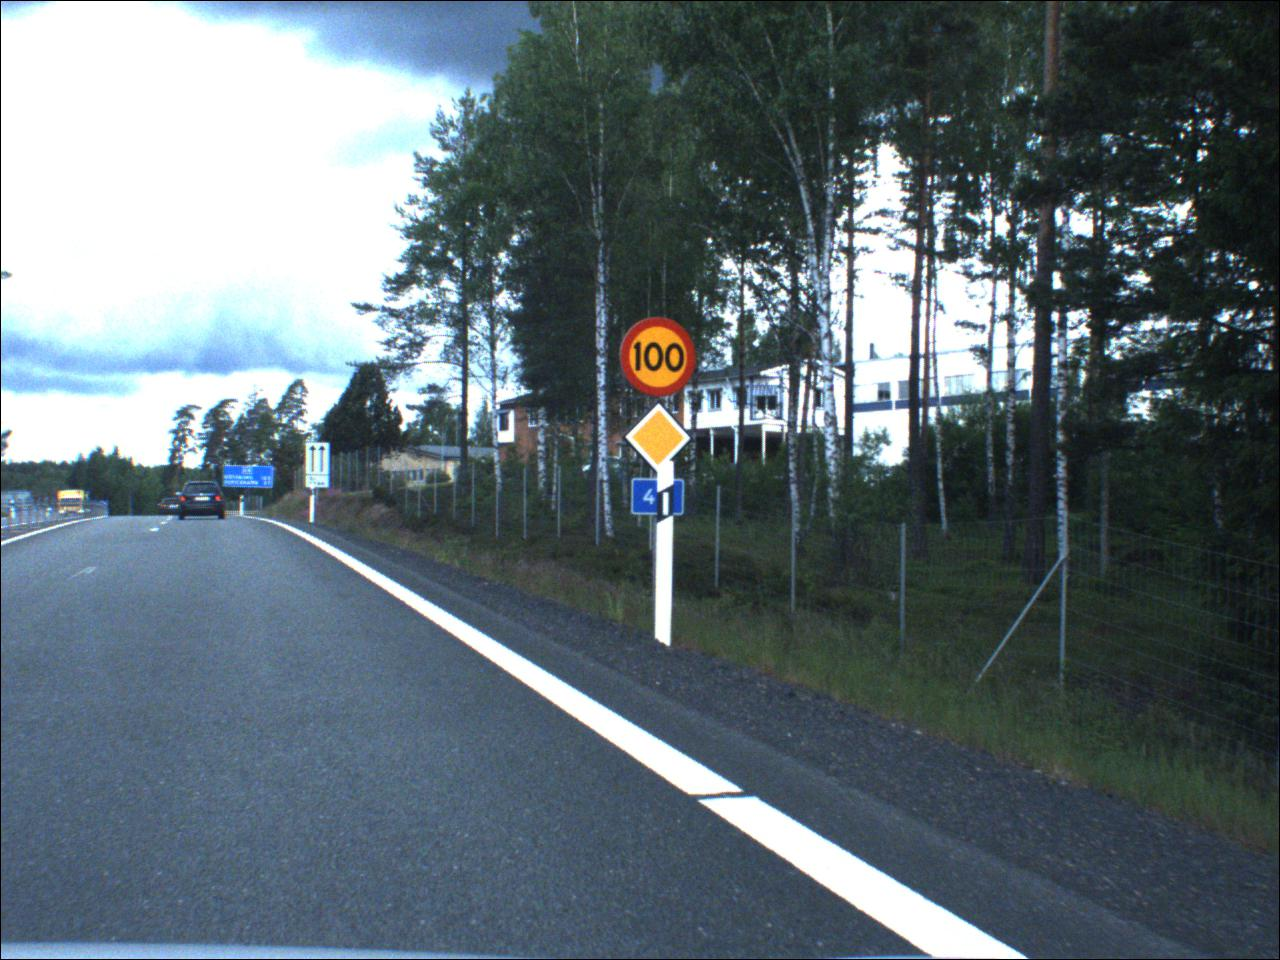100_SIGN: (618, 310, 703, 401)
PRIORITY_ROAD: (624, 404, 696, 480)
